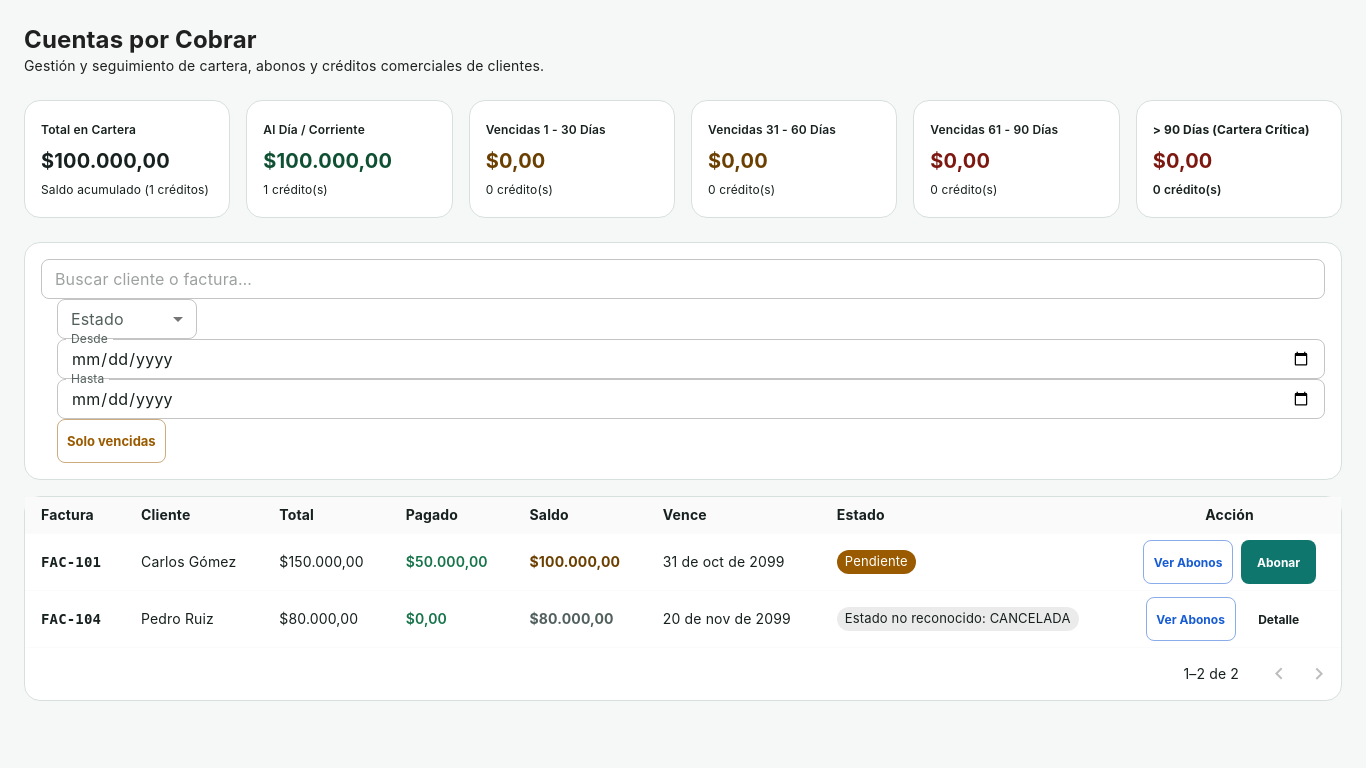
Test case: ReceivablesPage: estados de cartera (FARM-AUD-003) › Caso 6: un estado desconocido no rompe la pantalla y se informa como no reconocido
Expected: the text "Pedro Ruiz" is shown, x1=125 y1=590 x2=263 y2=648
Expected: the text "Estado no reconocido: CANCELADA" is shown, x1=837 y1=609 x2=1078 y2=629
Click the button "Detalle". click: (1279, 619)
box: x1=1244 y1=597 x2=1314 y2=641
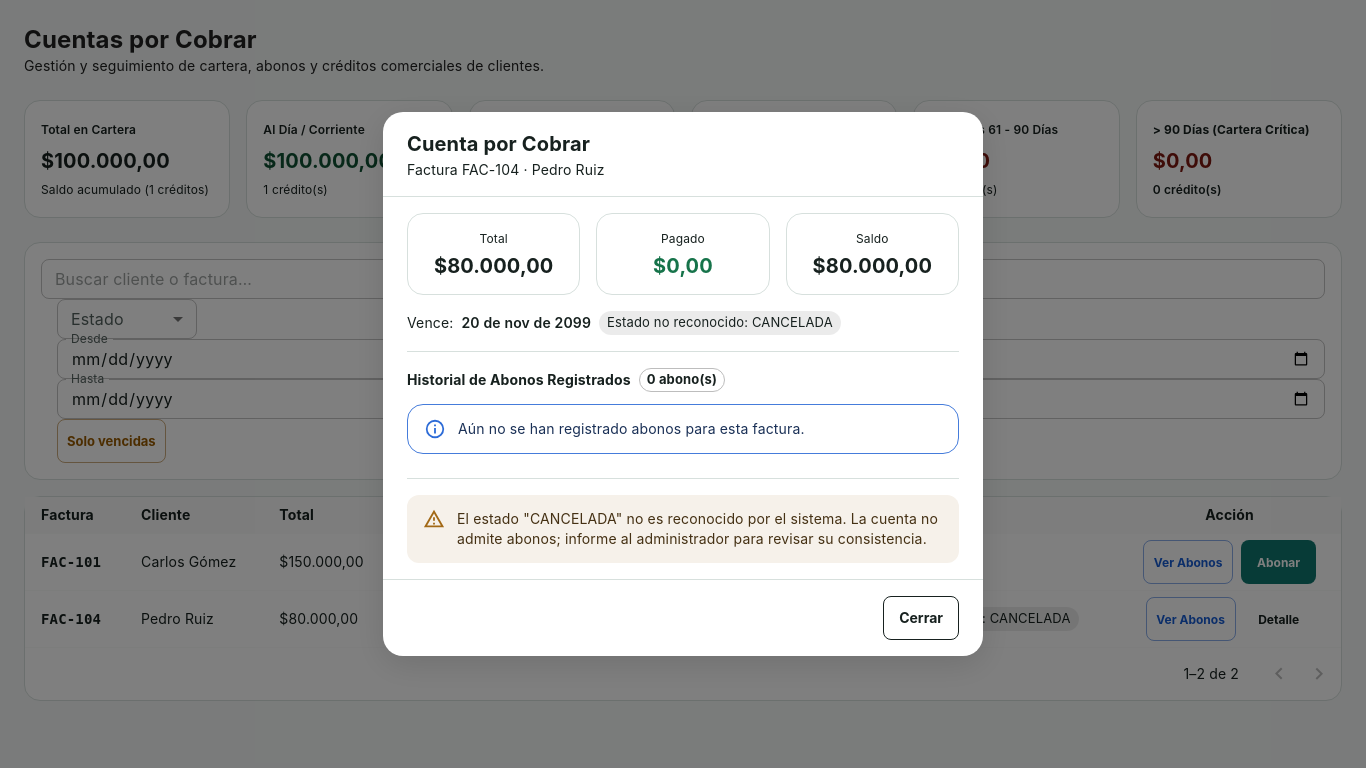
Expected: the text "no es reconocido" is shown, x1=457 y1=510 x2=938 y2=547
